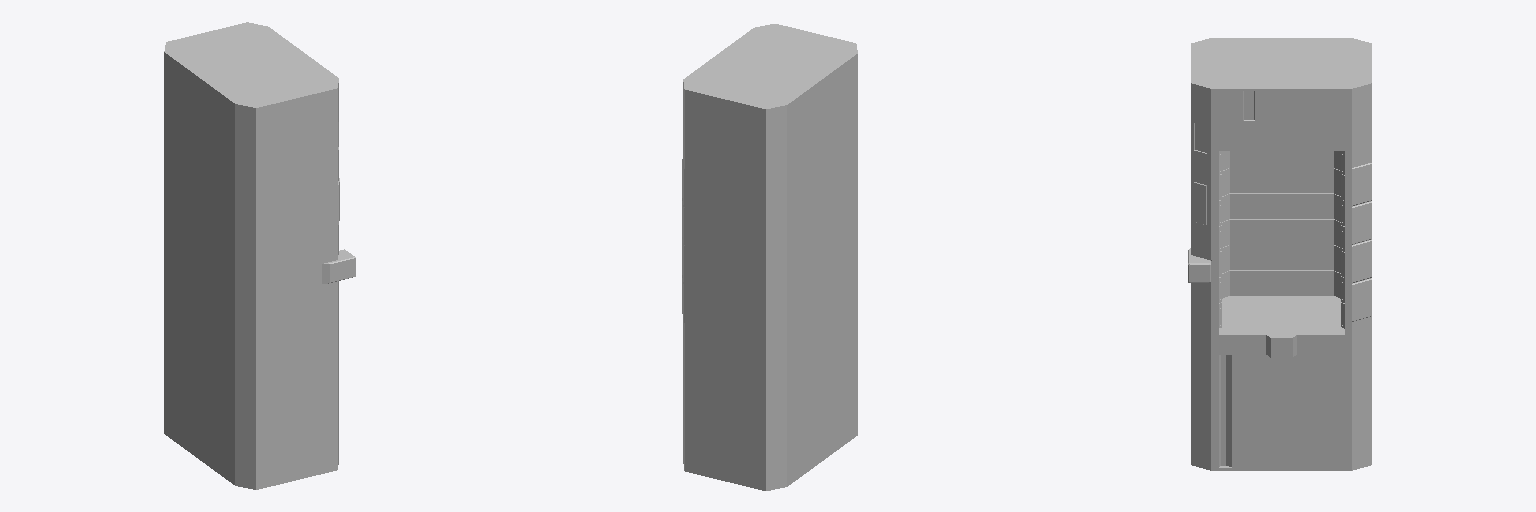
Rendered from gun_stroe.obj.
3 views of the same model, side by side, from view 1: azimuth 30°, elevation 25°; view 2: azimuth 150°, elevation 25°; view 3: azimuth 270°, elevation 25° (orthographic).
Parts seen in each view (by area): view 1: Gun_Store_Main_Cube.001; view 2: Gun_Store_Main_Cube.001; view 3: Gun_Store_Main_Cube.001.
Boxes of the visible parts, <box> form: Gun_Store_Main_Cube.001: <box>164,22,355,489</box>; Gun_Store_Main_Cube.001: <box>682,24,857,490</box>; Gun_Store_Main_Cube.001: <box>1188,38,1371,470</box>.
Size of the model in its own units: 21.29 by 70 by 30.55.